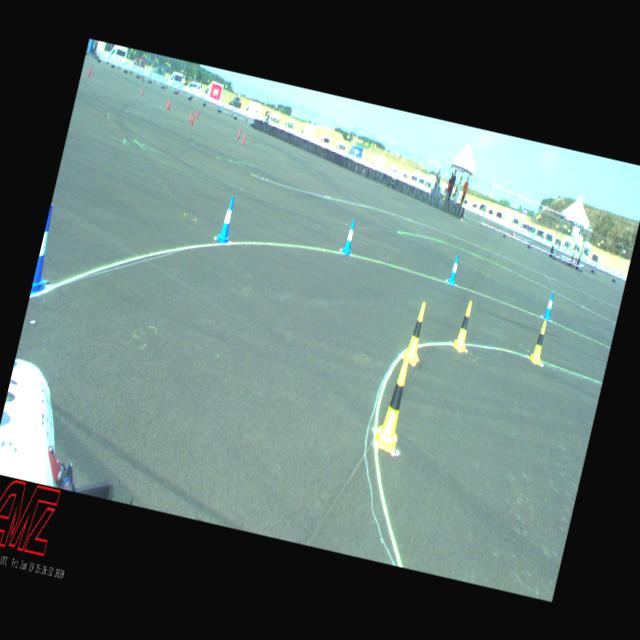blue_cone: (30, 205, 64, 298), (216, 194, 238, 243), (341, 218, 357, 254), (447, 254, 461, 285), (542, 291, 555, 320)
yellow_cone: (372, 353, 416, 454), (402, 300, 429, 363), (451, 298, 476, 352), (528, 320, 549, 364)
